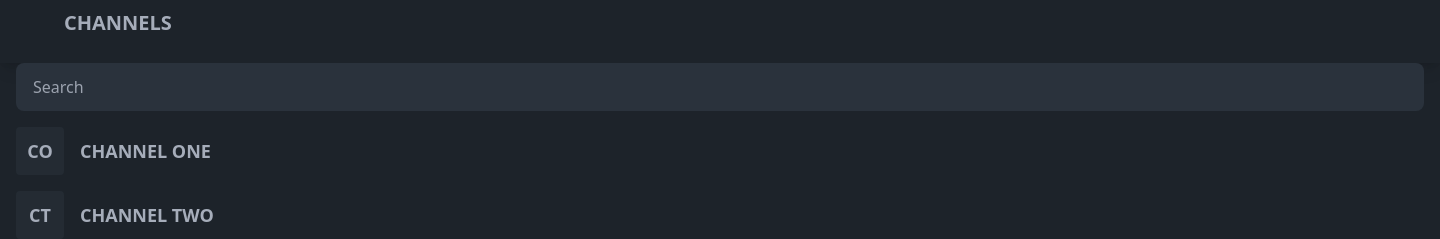
Test case: AllChannels.svelte › should show the no results message
Type "three" into the field with placeholder "Search". click: x=720, y=87
box: x1=16 y1=63 x2=1424 y2=111
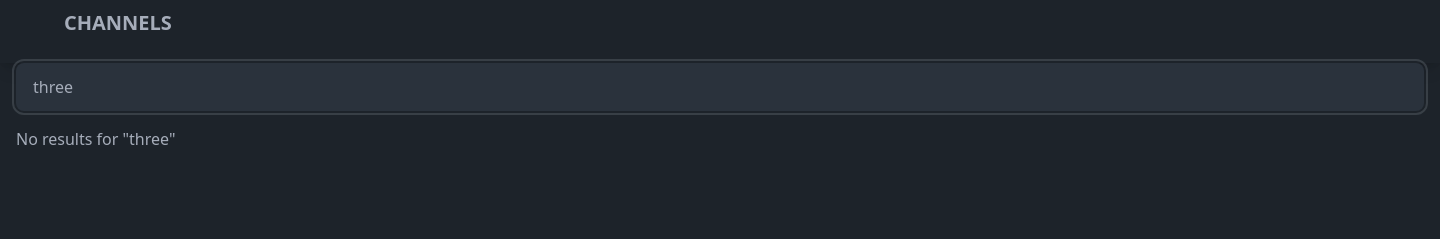
Check: the text "No results for \"three\"" is shown, box x1=16 y1=128 x2=176 y2=150
Check: no list items are shown
